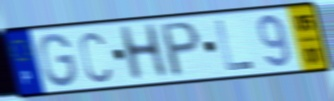9: (256, 12, 294, 71)
C: (78, 29, 113, 85)
G: (38, 32, 79, 89)
H: (115, 21, 171, 85)
L: (213, 19, 256, 73)
P: (159, 19, 203, 81)
